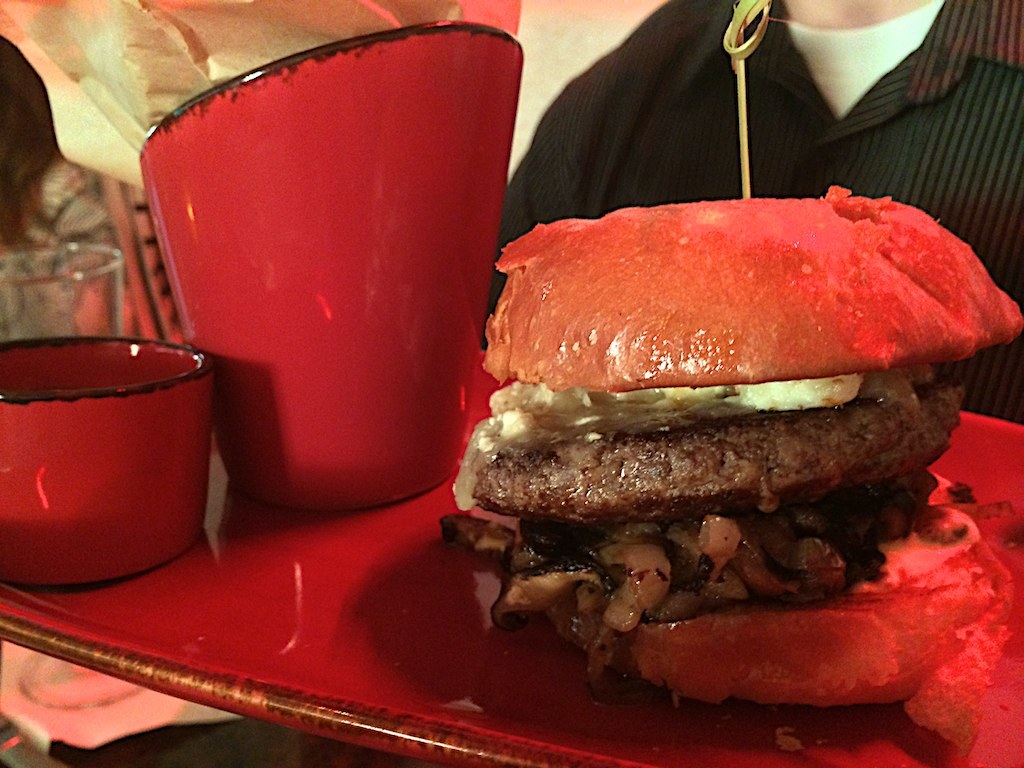Hamburger: (446, 181, 1022, 745)
